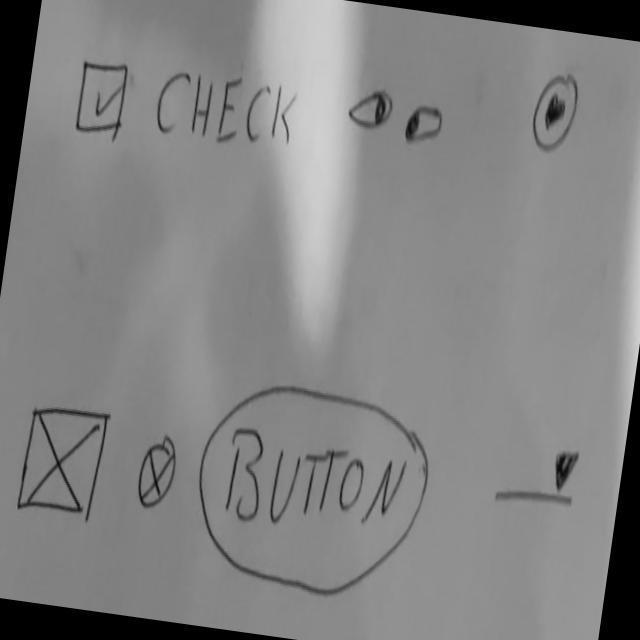button: (182, 369, 441, 612)
checkbox: (73, 50, 303, 171)
icon-button: (526, 68, 584, 162)
image: (14, 394, 115, 529), (132, 432, 184, 521)
select: (492, 435, 585, 516)
toggle: (347, 85, 400, 137), (403, 101, 447, 156)
